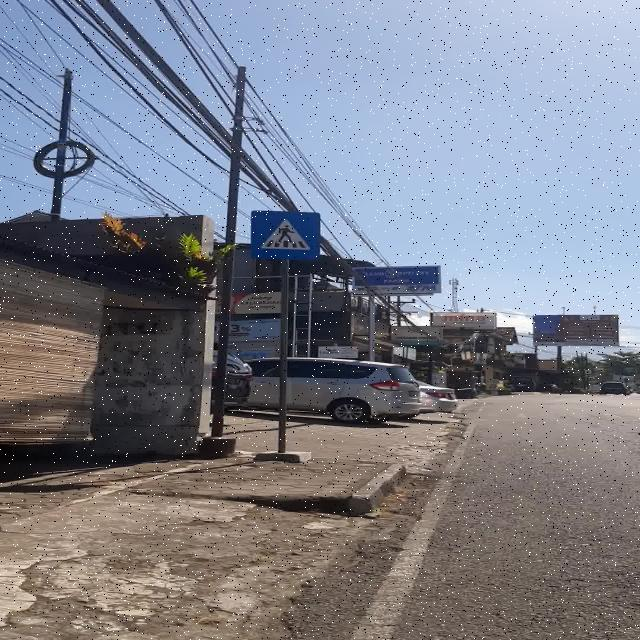Perintah Jalur Penyebrangan: (250, 210, 320, 260)
